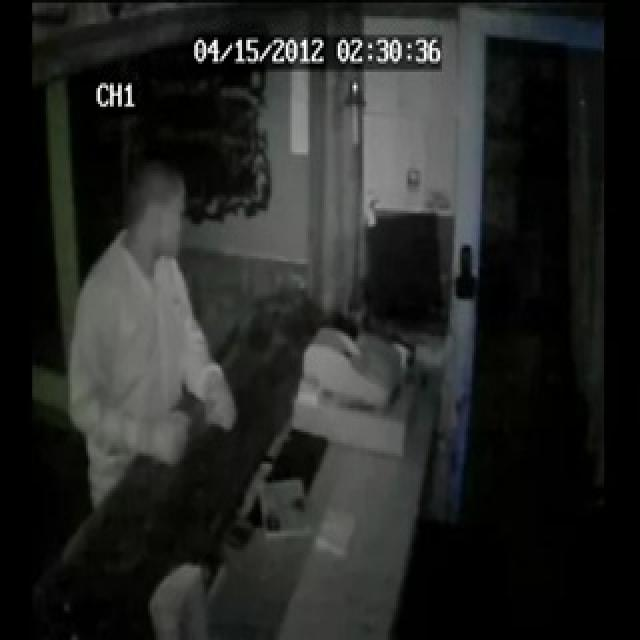thief: (80, 142, 244, 284)
